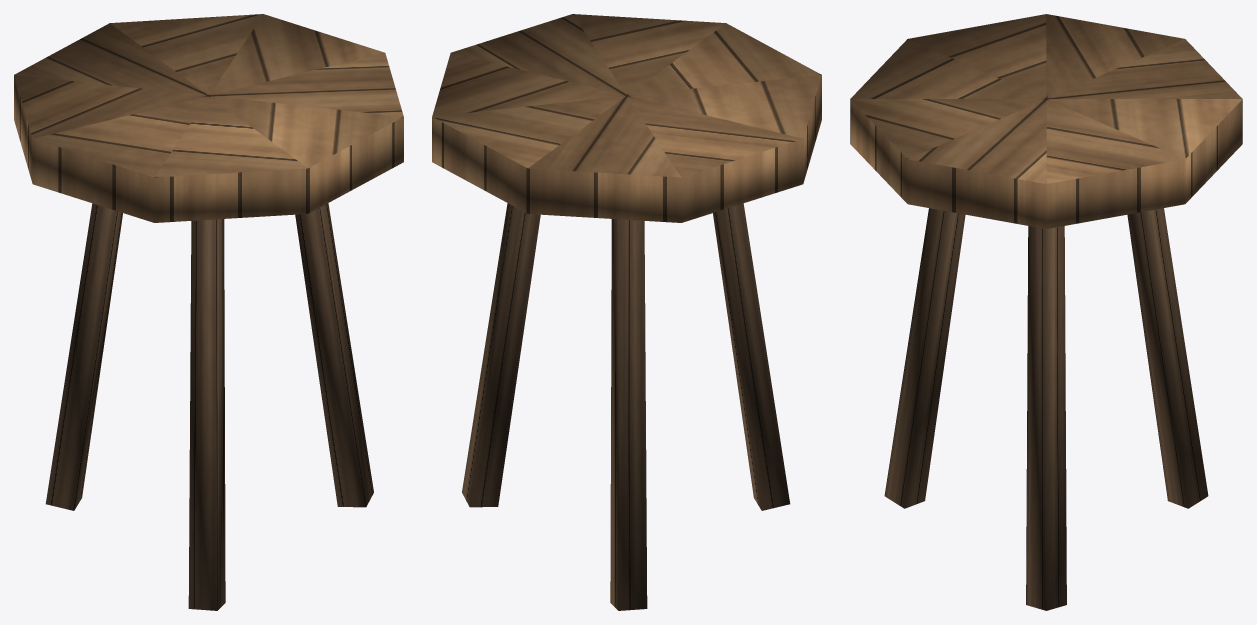
The model's file is Stool_LOD1.gltf.
The picture shows the model from 3 angles, left to right: view 1: azimuth 30°, elevation 25°; view 2: azimuth 150°, elevation 25°; view 3: azimuth 270°, elevation 25°; orthographic projection.
Visible parts, largest first — view 1: Stool_LOD1; view 2: Stool_LOD1; view 3: Stool_LOD1.
Part boxes in pixels (x1=…): Stool_LOD1: x1=14, y1=14, x2=403, y2=610; Stool_LOD1: x1=432, y1=14, x2=821, y2=610; Stool_LOD1: x1=850, y1=14, x2=1242, y2=610.
Size of the model in its own units: 0.4923 by 0.5905 by 0.48.
Materials: 2 (2 with a texture image).
